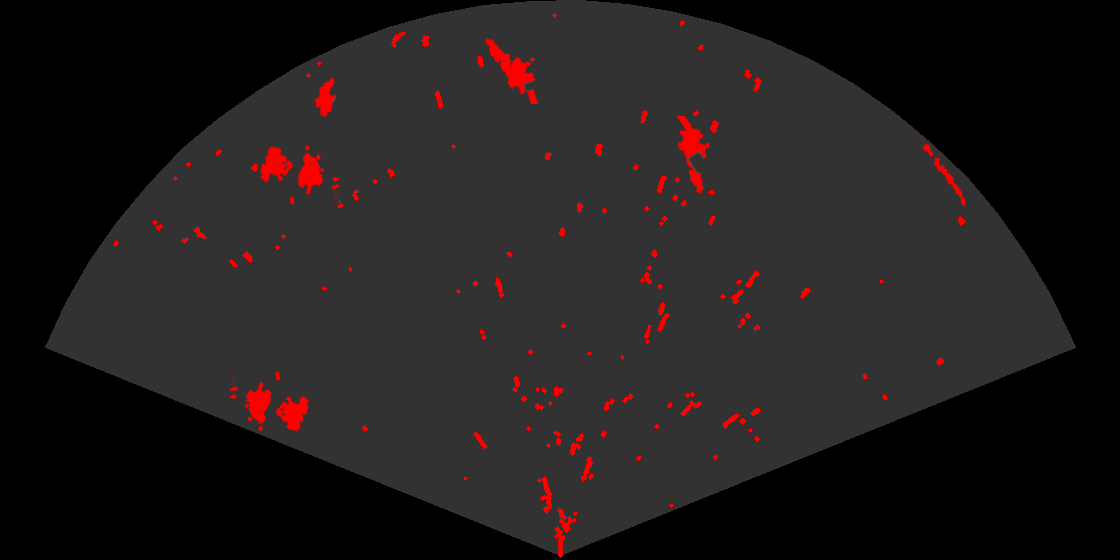AUV: (313, 76, 338, 119)
cage: (230, 372, 311, 433), (258, 144, 339, 204)
chain: (916, 134, 968, 209)
frogman: (484, 37, 540, 104), (675, 116, 711, 195)
